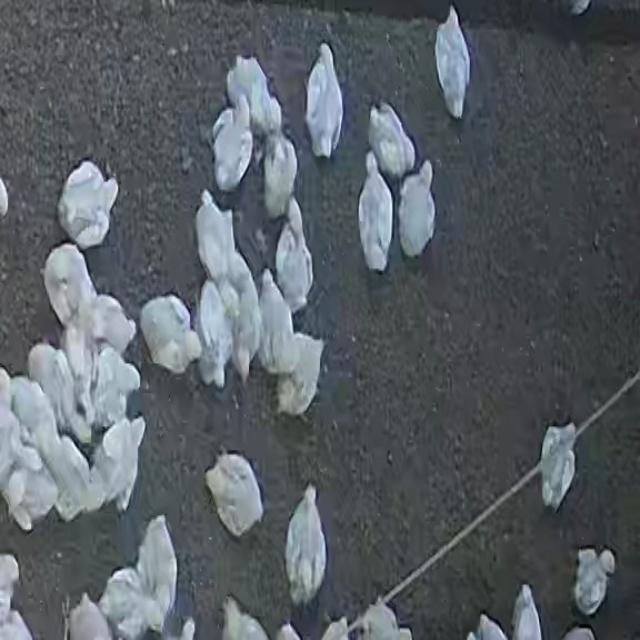chicken: (27, 340, 89, 450), (196, 191, 248, 301), (57, 161, 120, 248), (94, 414, 147, 514), (35, 437, 100, 515), (205, 451, 263, 538), (284, 487, 326, 607), (141, 295, 203, 376), (136, 514, 179, 628), (42, 244, 96, 332), (433, 8, 475, 118), (194, 280, 236, 388), (274, 333, 327, 418), (275, 200, 314, 312), (256, 273, 298, 375), (92, 345, 142, 430), (224, 56, 279, 132), (102, 568, 159, 638), (361, 153, 393, 273), (309, 46, 341, 158), (400, 159, 438, 252), (232, 271, 264, 381), (538, 426, 577, 512), (213, 102, 252, 187), (262, 129, 298, 218), (87, 294, 137, 357), (372, 102, 415, 172), (573, 547, 616, 616), (11, 384, 55, 448), (221, 597, 276, 640), (68, 594, 117, 640), (357, 598, 409, 640), (511, 584, 545, 640)
